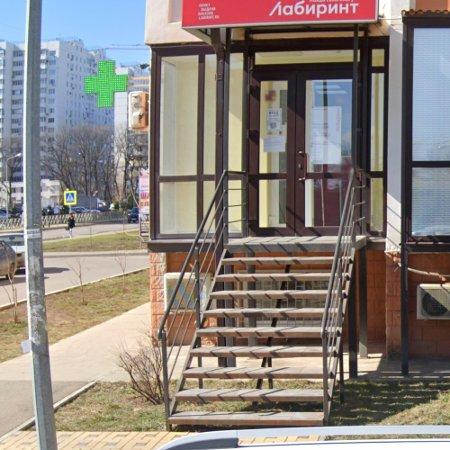stairs: (171, 185, 358, 428)
